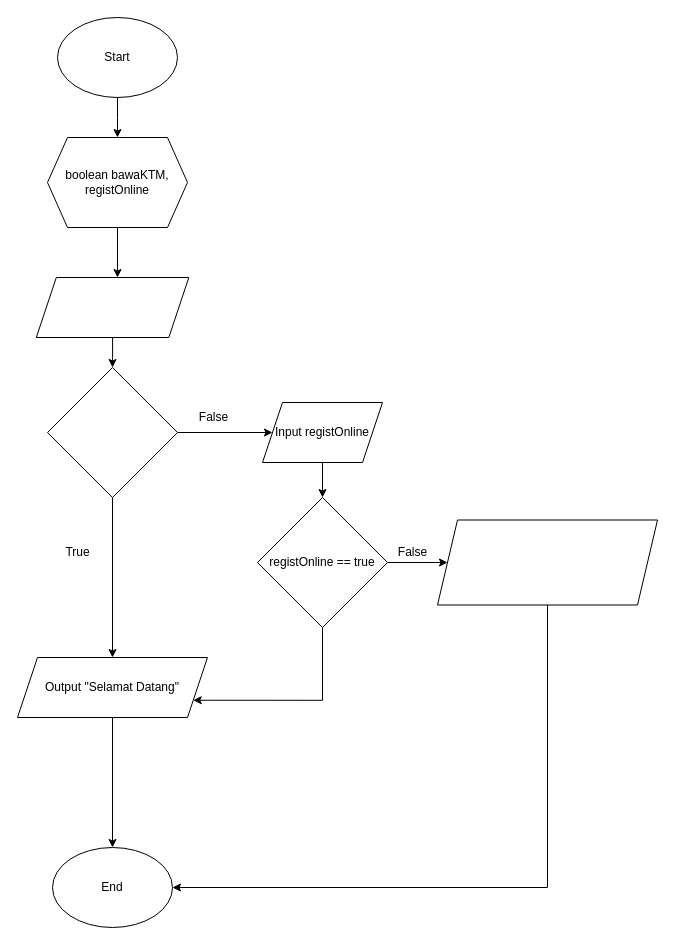
This 675x945 diagram has some shape labels left out. Each missing label, with the box of its shape:
bawaKTM == true: (46, 366, 178, 498)
Input bawaKTM: (35, 276, 189, 338)
Output "Mohon membawa KTM atau lakukan registrasi online dahulu!": (436, 519, 658, 605)
